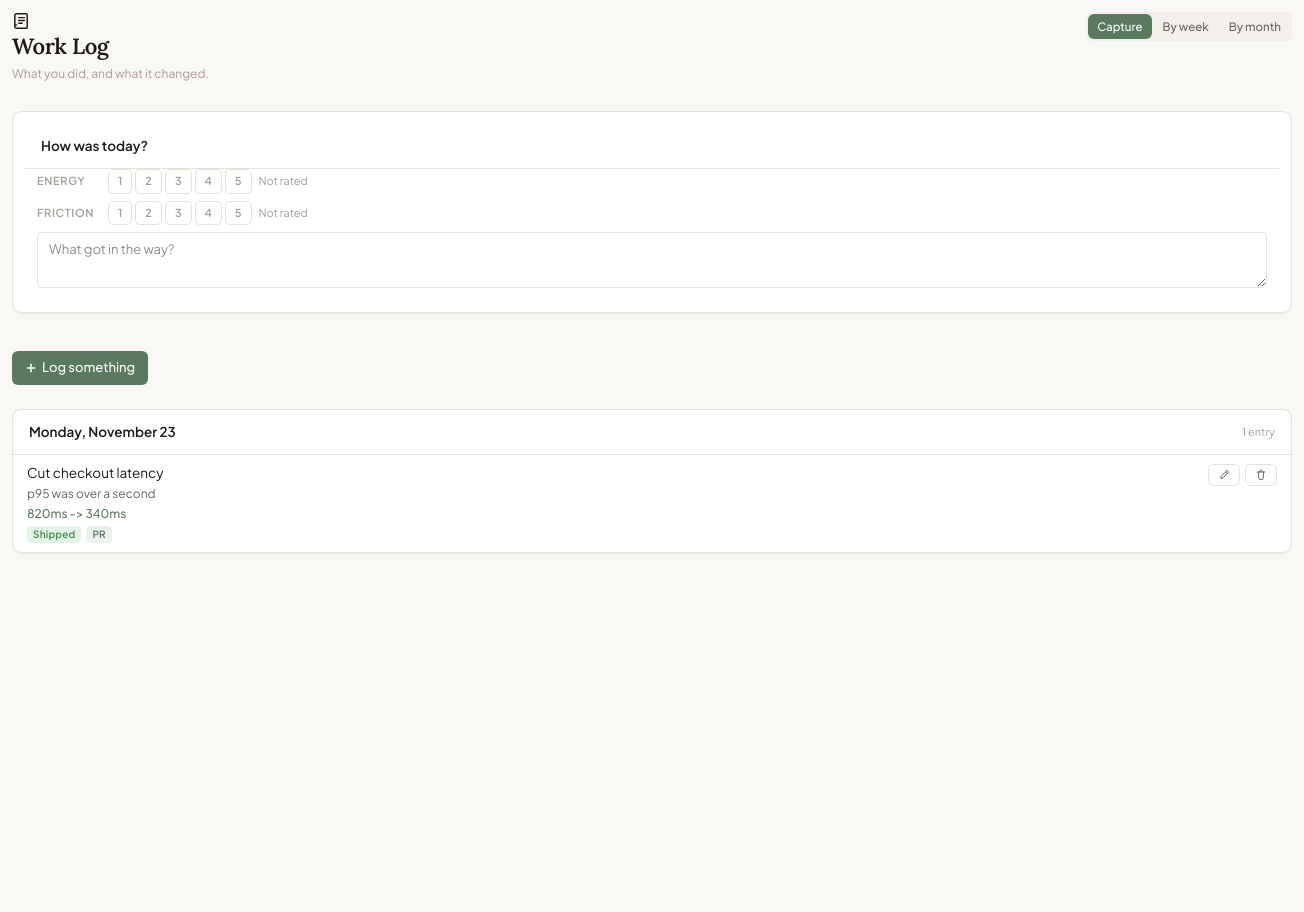
Test: WorkLogView editing › opens an editor prefilled with every field of the entry
Click the button named "Edit entry". click: (1224, 475)
box: x1=1208 y1=464 x2=1240 y2=486
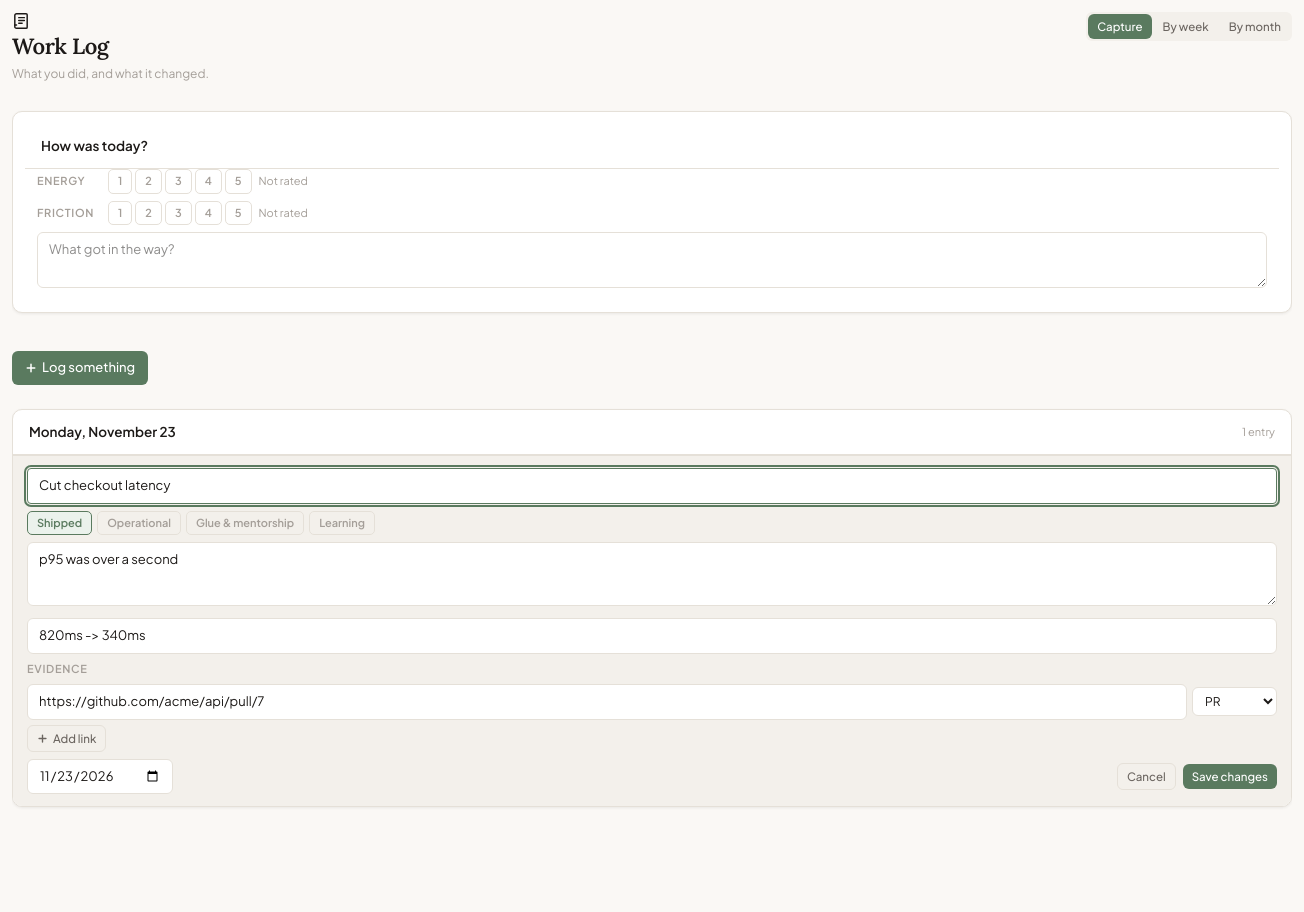
Now the 1st field with placeholder "What did you do?" holds "Cut checkout latency", box x1=27 y1=468 x2=1277 y2=504
Now the text box with placeholder "What was broken, or why it mattered" holds "p95 was over a second", box x1=27 y1=542 x2=1277 y2=606
Now the 2nd field with placeholder "p95 820ms → 340ms, 14 pages/week → 3" holds "820ms -> 340ms", box x1=27 y1=618 x2=1277 y2=654
